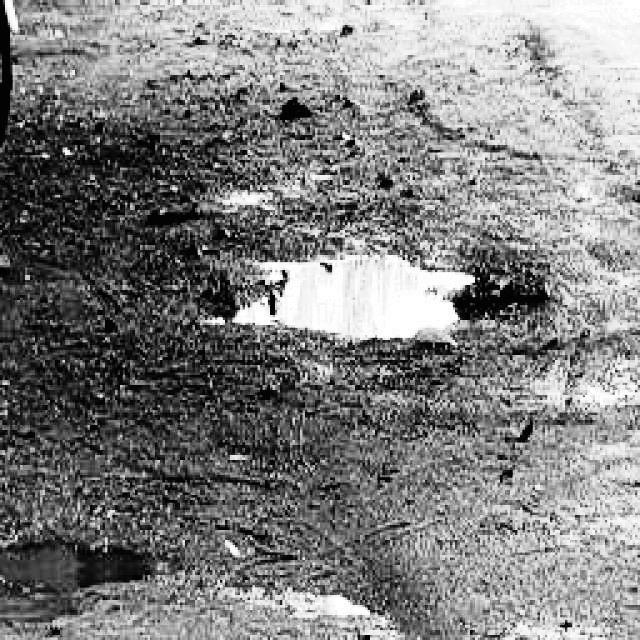Pothole: (186, 234, 555, 361), (0, 518, 190, 603)
